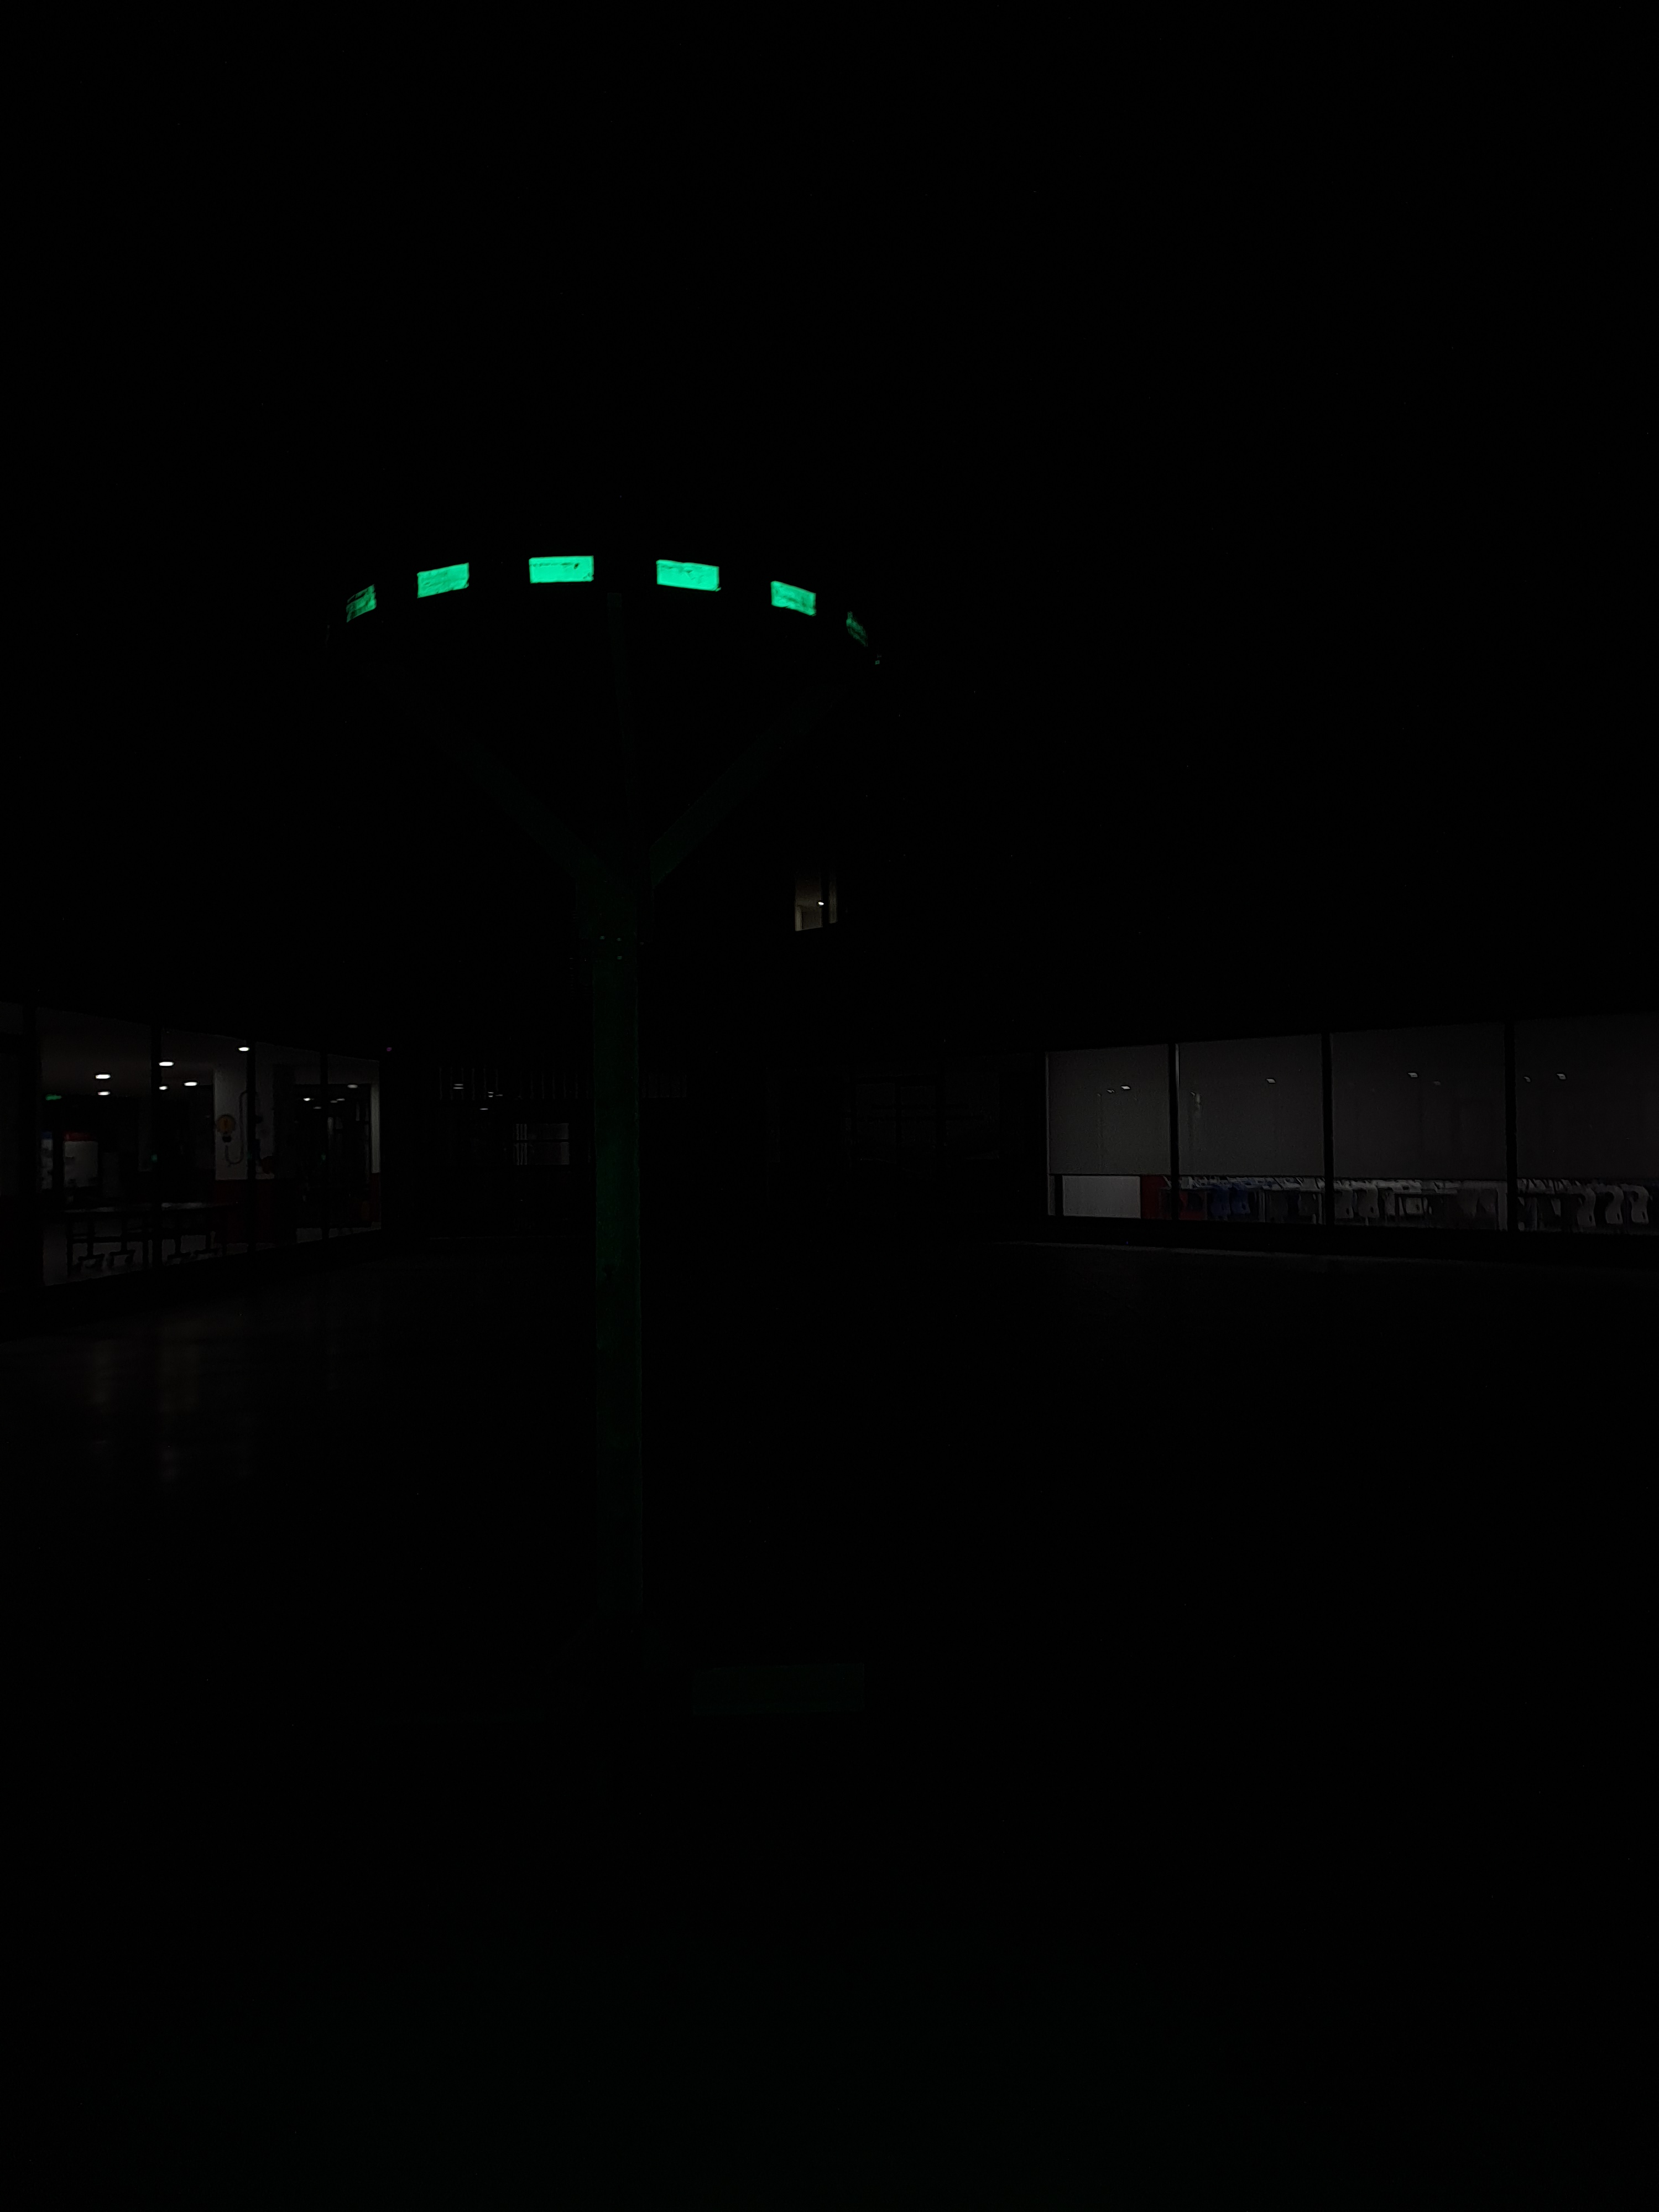hoop: (340, 538, 819, 650)
